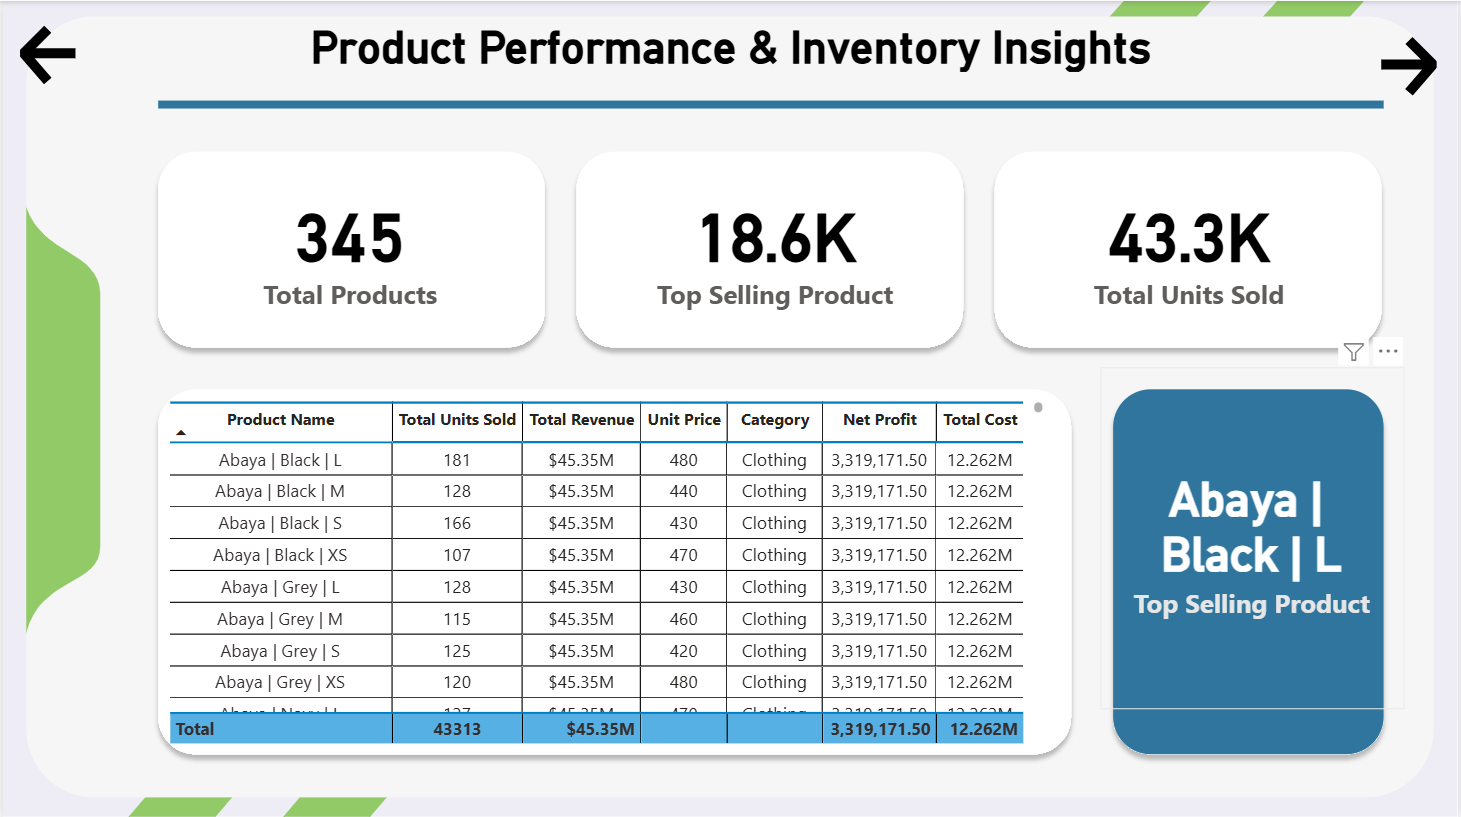

Layout of this report page (visuals, bound fields, positions):
{"tool":"powerbi","page":{"name":"Product Analysis","canvas":[1280,720],"ordinal":2},"visuals":[{"type":"textbox","title":"Product Performance & Inventory Insights","box":[131,17.9,1019.1,82.1],"z":0},{"type":"card","fields":{"Values":["products.Total Products"]},"box":[140.5,132.1,329.8,167.9],"z":1000},{"type":"card","fields":{"Values":["products.Top Selling Product"]},"box":[514.3,132.1,329.8,167.9],"z":2000},{"type":"card","fields":{"Values":["products.Total Units Sold"]},"box":[878.6,132.1,329.8,167.9],"z":3000},{"type":"tableEx","fields":{"Values":["products.product_name_raw","products.Total Units Sold","Key_Measures.Total Revenue","products.unit_price","products.category","Sum(fact_orders_2024.Net_Profit)","fact_orders_2024.Total Cost"]},"box":[140.5,347.6,779.8,310.7],"z":4000},{"type":"actionButton","box":[10.7,17.9,80,60],"z":4001},{"type":"card","fields":{"Values":["Key_Measures.Top Product Name"]},"box":[965.5,322.6,266.7,301.2],"z":4002},{"type":"actionButton","box":[1204.8,27.4,75,60],"z":4003}]}

Visuals, with their boxes in screenshot pixels (x1, y1, x2, y2), scaled from the page's 1280x720 canvas onto the 1461x817 screenshot:
"Product Performance & Inventory Insights" textbox: select_region(150, 20, 1313, 113)
card - products.Total Products: select_region(160, 150, 537, 340)
card - products.Top Selling Product: select_region(587, 150, 963, 340)
card - products.Total Units Sold: select_region(1003, 150, 1379, 340)
tableEx - products.product_name_raw x products.Total Units Sold: select_region(160, 394, 1050, 747)
actionButton: select_region(12, 20, 104, 88)
card - Key_Measures.Top Product Name: select_region(1102, 366, 1406, 708)
actionButton: select_region(1375, 31, 1460, 99)
